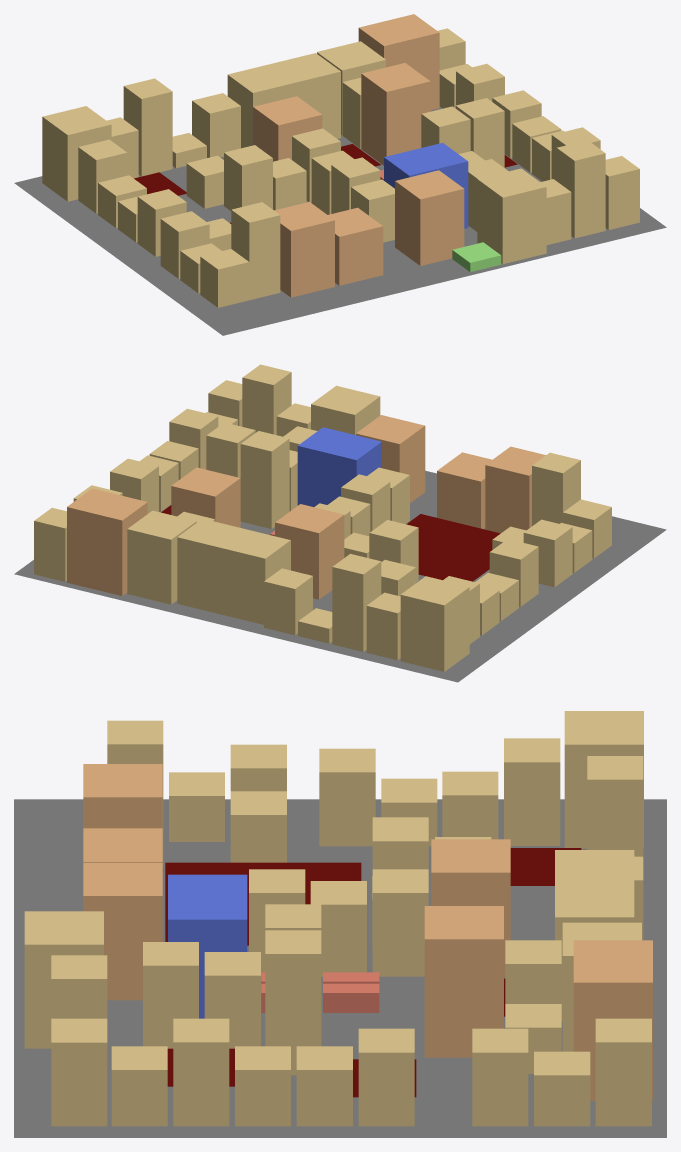
Rendered from GrimLifeBlockout.fbx.
3 views of the same model, one above another, from view 1: azimuth 30°, elevation 25°; view 2: azimuth 150°, elevation 25°; view 3: azimuth 270°, elevation 25° (orthographic). The views are drawn at different scales.
Parts seen in each view (by area): view 1: City GreyBox; view 2: City GreyBox; view 3: City GreyBox.
Boxes of the visible parts, bbox=[...] form: City GreyBox: bbox=[14, 14, 666, 335]; City GreyBox: bbox=[14, 364, 666, 682]; City GreyBox: bbox=[14, 711, 666, 1137].
Bounding box in the file's own units: 7284 × 5936 × 1216.
